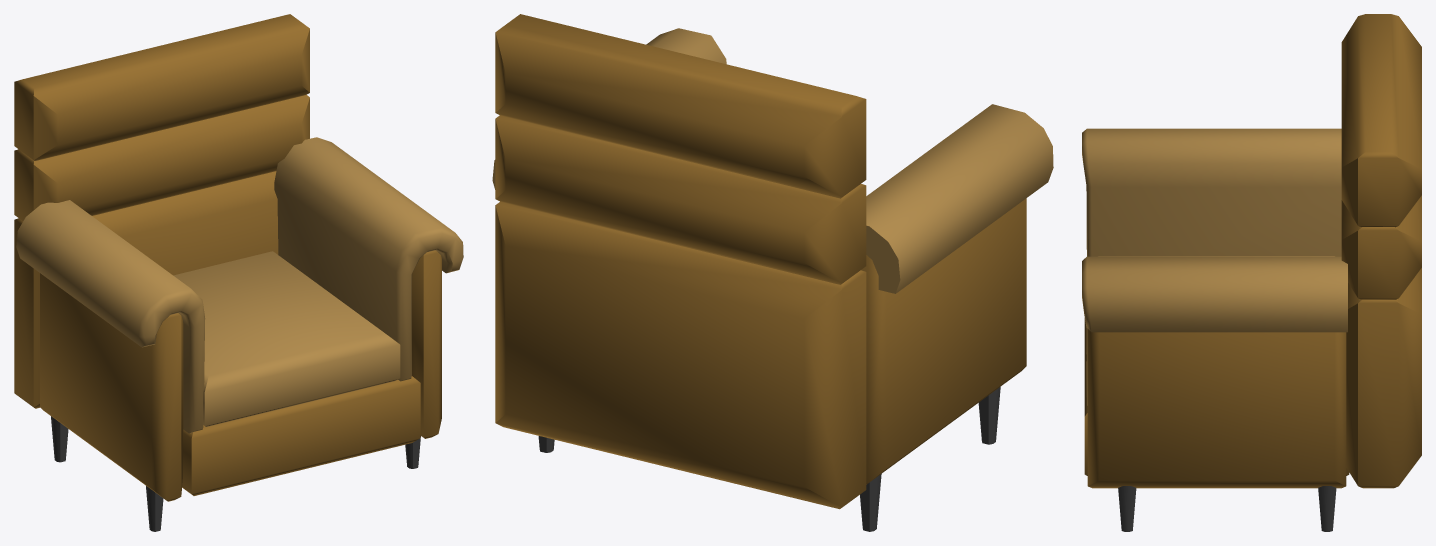
The model's file is armchair001.glb.
The picture shows the model from 3 angles, left to right: view 1: azimuth 30°, elevation 25°; view 2: azimuth 150°, elevation 25°; view 3: azimuth 270°, elevation 25°; orthographic projection. The views are drawn at different scales.
Visible parts, largest first — view 1: armchair.001; view 2: armchair.001; view 3: armchair.001.
Boxes of the visible parts, x1,y1,x2,y2 form: armchair.001: (14,14,463,531); armchair.001: (492,14,1053,531); armchair.001: (1082,14,1421,531).
Size of the model in its own units: 1.05 by 1.12 by 0.907.
Materials: 1 (1 with a texture image).
